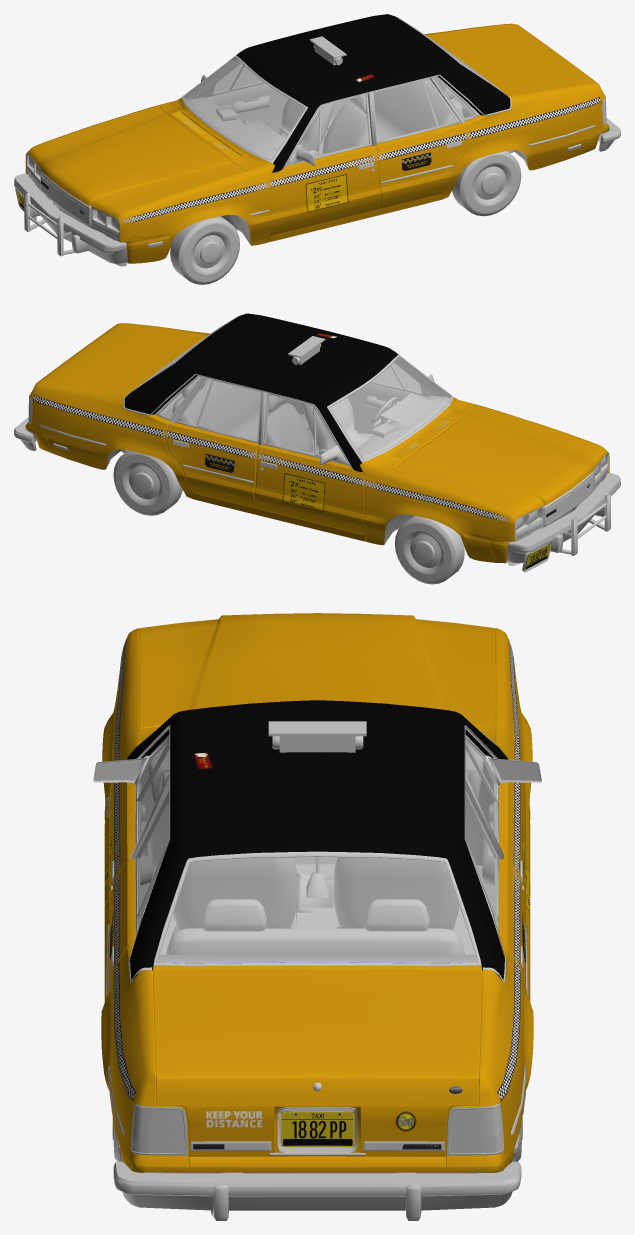
Rendered from Fairheaven_LTT80.fbx.
The picture shows the model from 3 angles, top to bottom: view 1: azimuth 30°, elevation 25°; view 2: azimuth 150°, elevation 25°; view 3: azimuth 270°, elevation 25°; orthographic projection. The views are drawn at different scales.
Parts seen in each view (by area): view 1: Fairheaven_LTT80_body, Fairheaven_LTT80_Hood, Fairheaven_LTT80_interior, Fairheaven_LTT80_Bottom, Fairheaven_LTT80_BodyGlass, Fairheaven_LTT80_Windshield, Fairheaven_LTT80_trunk_door, Fairheaven_LTT80_Wheel_FL, Fairheaven_LTT80_Bumper_Front, Fairheaven_LTT80_Wheel_RL, Fairheaven_LTT80_bumper_rear; view 2: Fairheaven_LTT80_body, Fairheaven_LTT80_Hood, Fairheaven_LTT80_interior, Fairheaven_LTT80_Bottom, Fairheaven_LTT80_BodyGlass, Fairheaven_LTT80_Windshield, Fairheaven_LTT80_trunk_door, Fairheaven_LTT80_Wheel_FR, Fairheaven_LTT80_Bumper_Front, Fairheaven_LTT80_Wheel_RR, Fairheaven_LTT80_bumper_rear; view 3: Fairheaven_LTT80_body, Fairheaven_LTT80_trunk_door, Fairheaven_LTT80_interior, Fairheaven_LTT80_Hood, Fairheaven_LTT80_Rear_Glass, Fairheaven_LTT80_Bottom, Fairheaven_LTT80_bumper_rear, Fairheaven_LTT80_BodyGlass, Fairheaven_LTT80_Trunk_Misc, Fairheaven_LTT80_Trunk_door_inner, Fairheaven_LTT80_Brakelights, Fairheaven_LTT80_Blinkers (+1 smaller).
Boxes of the visible parts, bbox=[...] form: Fairheaven_LTT80_body: bbox=[25, 14, 609, 263]; Fairheaven_LTT80_Hood: bbox=[28, 106, 247, 218]; Fairheaven_LTT80_interior: bbox=[184, 45, 485, 159]; Fairheaven_LTT80_Bottom: bbox=[26, 16, 606, 266]; Fairheaven_LTT80_BodyGlass: bbox=[214, 63, 474, 155]; Fairheaven_LTT80_Windshield: bbox=[184, 57, 305, 159]; Fairheaven_LTT80_trunk_door: bbox=[427, 24, 597, 96]; Fairheaven_LTT80_Wheel_FL: bbox=[170, 216, 239, 284]; Fairheaven_LTT80_Bumper_Front: bbox=[14, 173, 127, 263]; Fairheaven_LTT80_Wheel_RL: bbox=[452, 151, 521, 216]; Fairheaven_LTT80_bumper_rear: bbox=[598, 118, 620, 151]; Fairheaven_LTT80_body: bbox=[25, 313, 609, 563]; Fairheaven_LTT80_Hood: bbox=[387, 405, 606, 517]; Fairheaven_LTT80_interior: bbox=[150, 345, 450, 458]; Fairheaven_LTT80_Bottom: bbox=[28, 315, 608, 565]; Fairheaven_LTT80_BodyGlass: bbox=[160, 363, 420, 455]; Fairheaven_LTT80_Windshield: bbox=[330, 356, 450, 458]; Fairheaven_LTT80_trunk_door: bbox=[36, 324, 206, 395]; Fairheaven_LTT80_Wheel_FR: bbox=[394, 515, 464, 584]; Fairheaven_LTT80_Bumper_Front: bbox=[507, 473, 620, 572]; Fairheaven_LTT80_Wheel_RR: bbox=[113, 450, 182, 515]; Fairheaven_LTT80_bumper_rear: bbox=[14, 417, 36, 450]; Fairheaven_LTT80_body: bbox=[101, 628, 533, 1172]; Fairheaven_LTT80_trunk_door: bbox=[153, 969, 481, 1156]; Fairheaven_LTT80_interior: bbox=[140, 743, 494, 962]; Fairheaven_LTT80_Hood: bbox=[139, 613, 495, 728]; Fairheaven_LTT80_Rear_Glass: bbox=[157, 857, 477, 962]; Fairheaven_LTT80_Bottom: bbox=[93, 721, 541, 1218]; Fairheaven_LTT80_bumper_rear: bbox=[113, 1161, 521, 1220]; Fairheaven_LTT80_BodyGlass: bbox=[137, 739, 497, 927]; Fairheaven_LTT80_Trunk_Misc: bbox=[193, 1086, 462, 1149]; Fairheaven_LTT80_Trunk_door_inner: bbox=[190, 1082, 444, 1155]; Fairheaven_LTT80_Brakelights: bbox=[132, 1106, 502, 1128]; Fairheaven_LTT80_Blinkers: bbox=[132, 1124, 502, 1136].
Size of the model in its own units: 5045 by 1442 by 1832.
